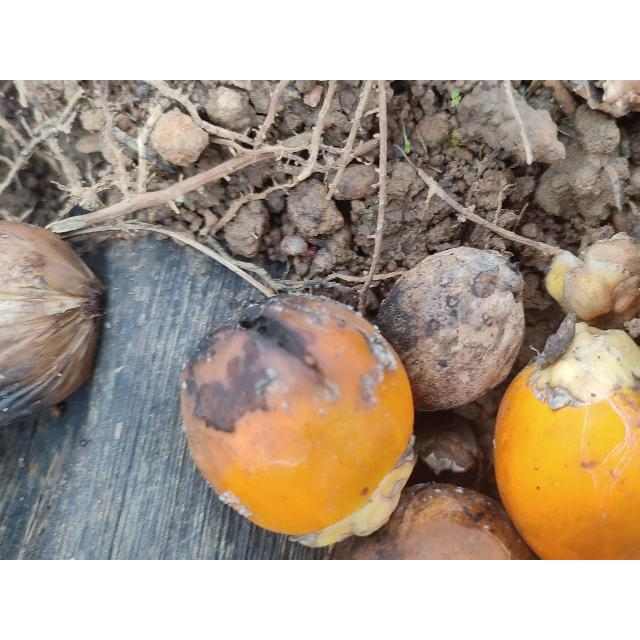damaged: (178, 296, 416, 549), (494, 232, 640, 554), (0, 219, 110, 423), (384, 250, 524, 408), (338, 480, 530, 560), (544, 235, 640, 323)
